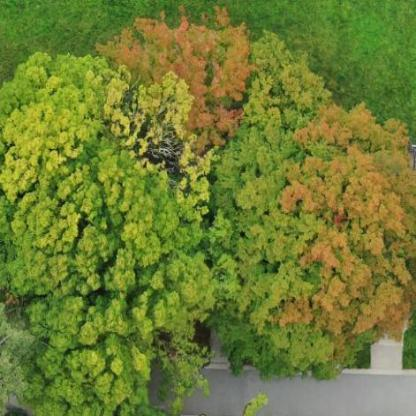Deciduous Tree: (0, 53, 213, 415), (205, 37, 416, 388), (98, 0, 258, 160)
